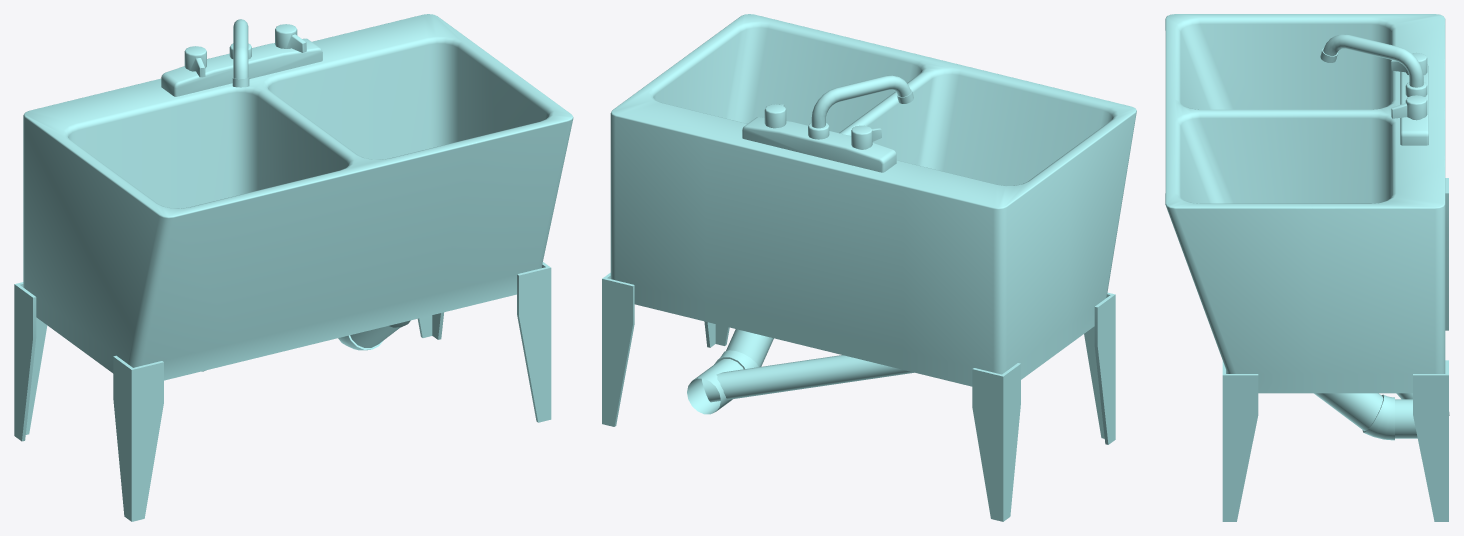
3 views of the same model, side by side, from view 1: azimuth 30°, elevation 25°; view 2: azimuth 150°, elevation 25°; view 3: azimuth 270°, elevation 25° (orthographic). The views are drawn at different scales.
Parts seen in each view (by area): view 1: sink001_reference.002; view 2: sink001_reference.002; view 3: sink001_reference.002.
Boxes of the visible parts, box(x1,y1,x2,y2) form: sink001_reference.002: box(14, 14, 573, 521); sink001_reference.002: box(602, 14, 1136, 521); sink001_reference.002: box(1165, 14, 1449, 521).
Bounding box in the file's own units: 8125 × 7125 × 4940.
